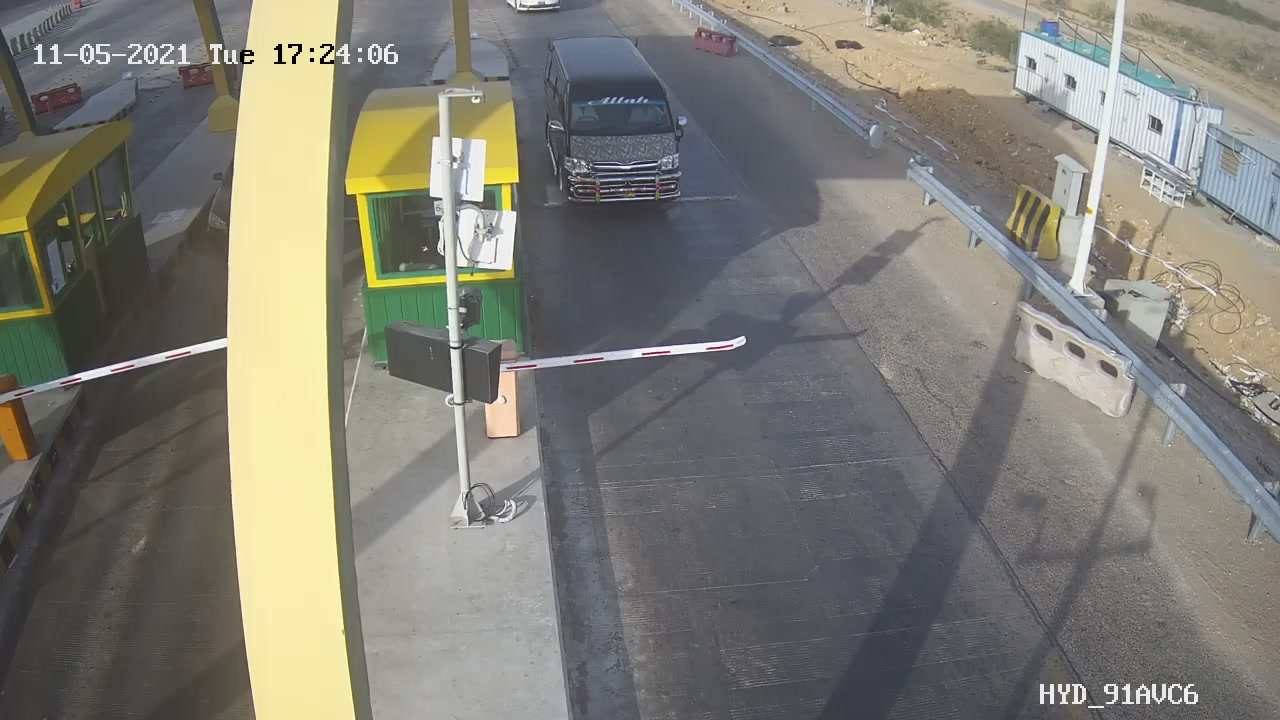F2: (524, 24, 707, 239)
